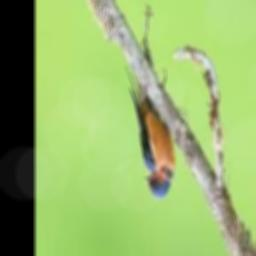Swallow: (126, 63, 175, 198)
